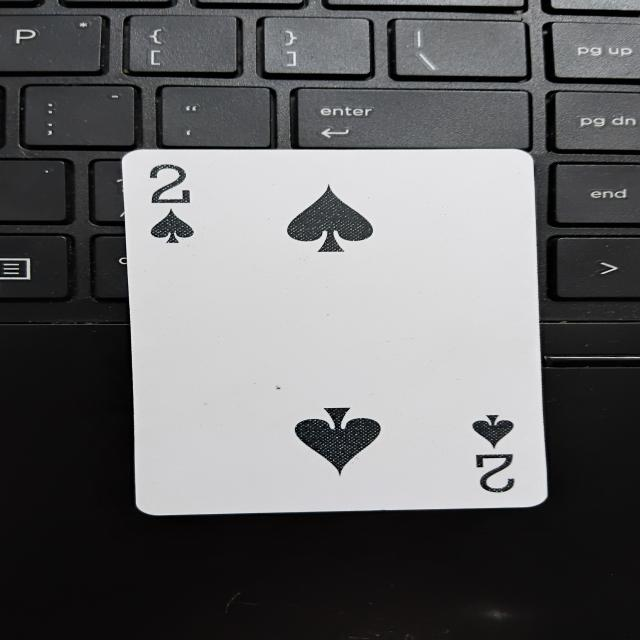2S: (120, 139, 559, 522)
